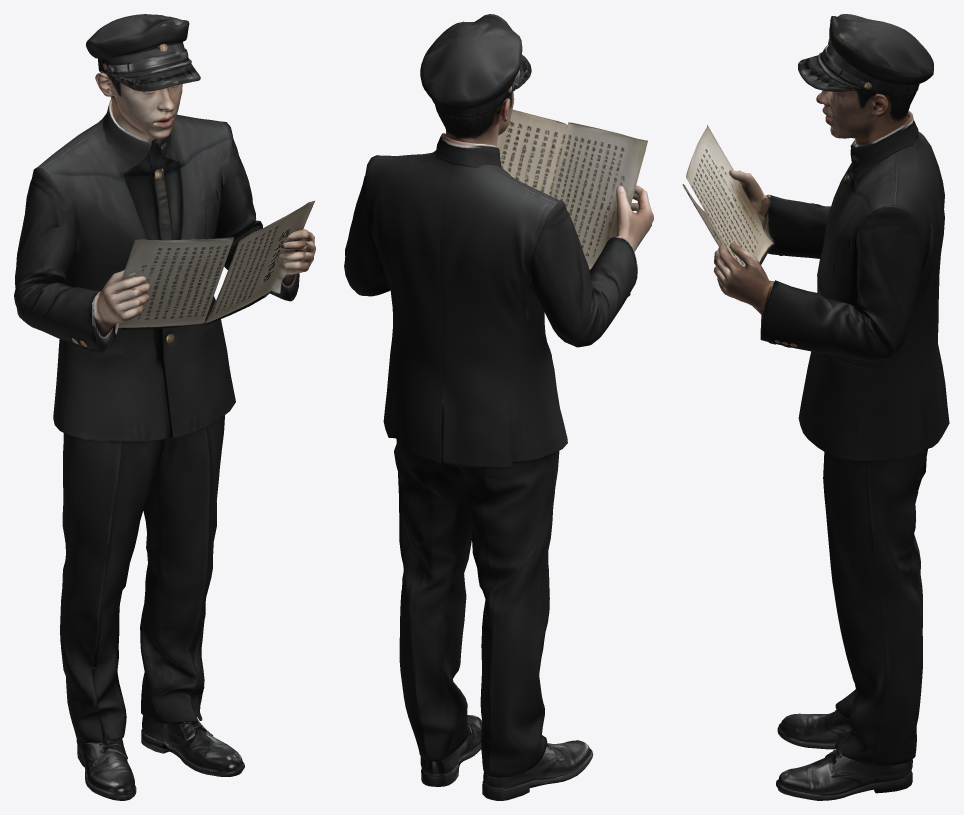
File: man.glb
The picture shows the model from 3 angles, left to right: view 1: azimuth 30°, elevation 25°; view 2: azimuth 150°, elevation 25°; view 3: azimuth 270°, elevation 25°; orthographic projection.
Parts seen in each view (by area): view 1: tripo_node_af903f7a-705e-41b3-9d4c-2eafeffa17e3; view 2: tripo_node_af903f7a-705e-41b3-9d4c-2eafeffa17e3; view 3: tripo_node_af903f7a-705e-41b3-9d4c-2eafeffa17e3.
Boxes of the visible parts, x1,y1,x2,y2 form: tripo_node_af903f7a-705e-41b3-9d4c-2eafeffa17e3: (14, 14, 315, 800); tripo_node_af903f7a-705e-41b3-9d4c-2eafeffa17e3: (344, 14, 653, 800); tripo_node_af903f7a-705e-41b3-9d4c-2eafeffa17e3: (682, 14, 949, 800).
Bounding box in the file's own units: 0.3472 × 0.9995 × 0.3208.
1 material, 1 textured.
